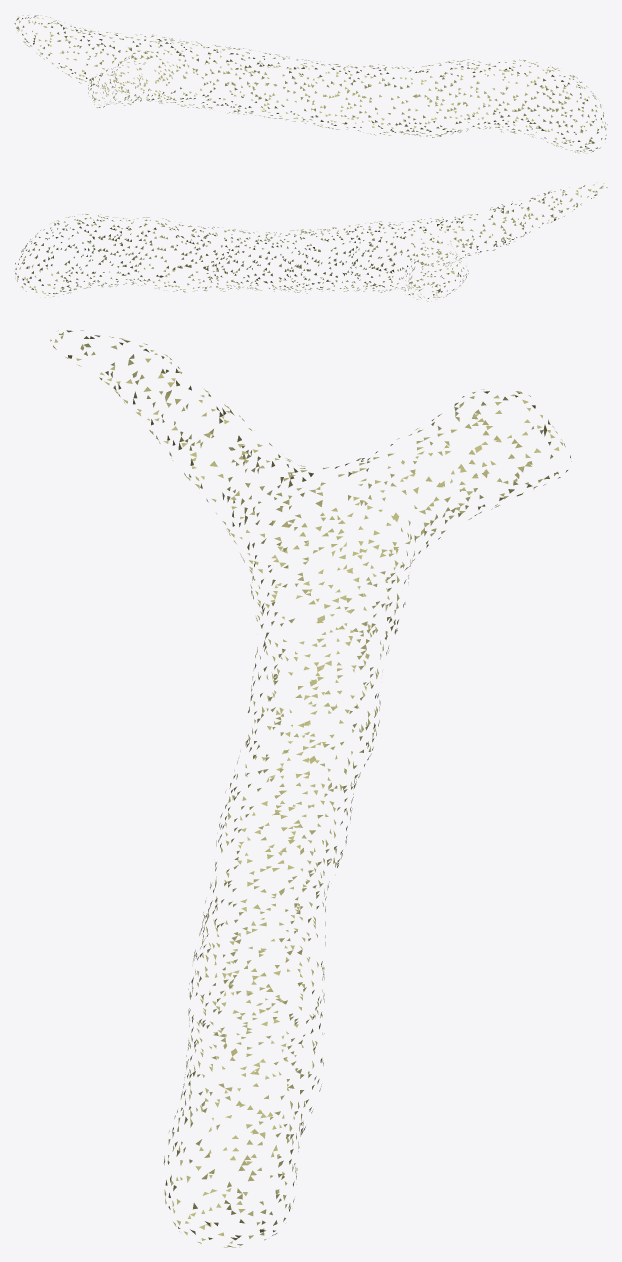
The model's file is morph_009.glb.
The picture shows the model from 3 angles, top to bottom: view 1: azimuth 30°, elevation 25°; view 2: azimuth 150°, elevation 25°; view 3: azimuth 270°, elevation 25°; orthographic projection. The views are drawn at different scales.
Bounding box in the file's own units: 132 × 48.56 × 54.76.
